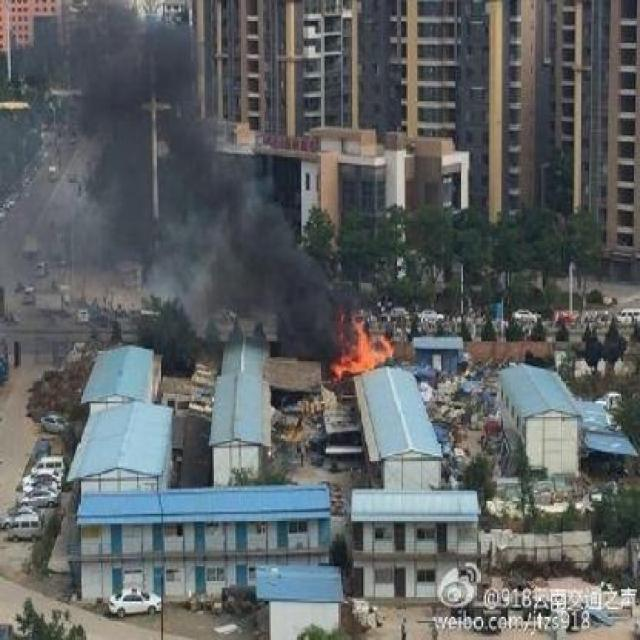Fire: (334, 320, 394, 382)
Smoke: (56, 6, 342, 355)
